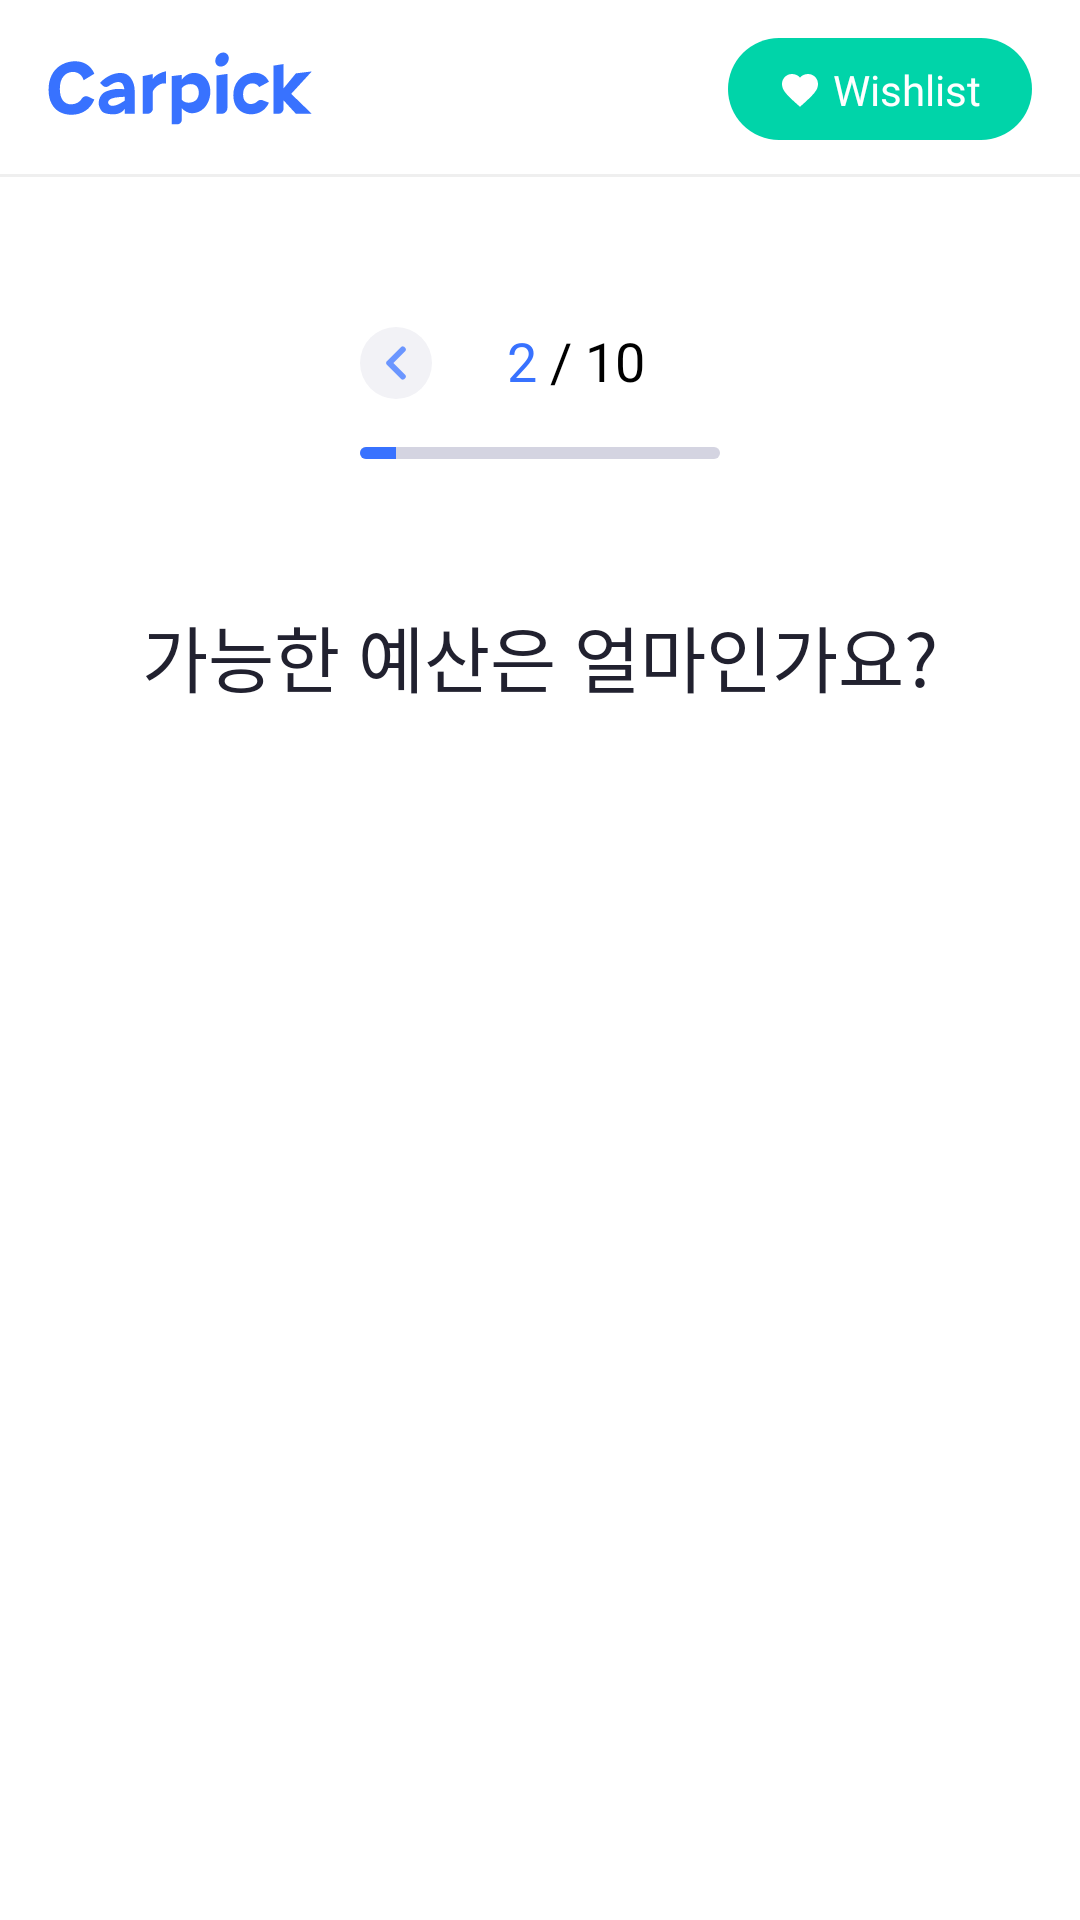

Icon bounding boxes for this 1080px×1920px phone screenshot, format {"x1": x1, "y1": y1, "x2": x2, "y2": y2}:
heart: {"x1": 782, "y1": 74, "x2": 818, "y2": 107}
prev on: {"x1": 360, "y1": 327, "x2": 432, "y2": 399}
